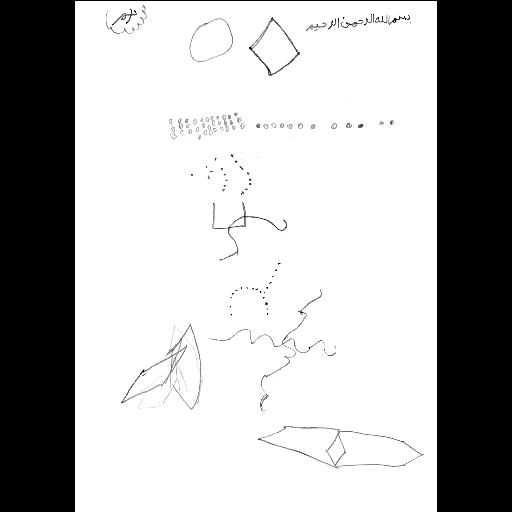shape-1: (188, 14, 300, 76)
shape-2: (254, 114, 398, 132)
shape-3: (166, 110, 250, 142)
shape-4: (182, 148, 256, 198)
shape-5: (210, 198, 288, 262)
shape-6: (225, 264, 283, 320)
shape-7: (206, 288, 338, 416)
shape-8: (118, 320, 202, 412)
shape-9: (254, 420, 424, 474)
